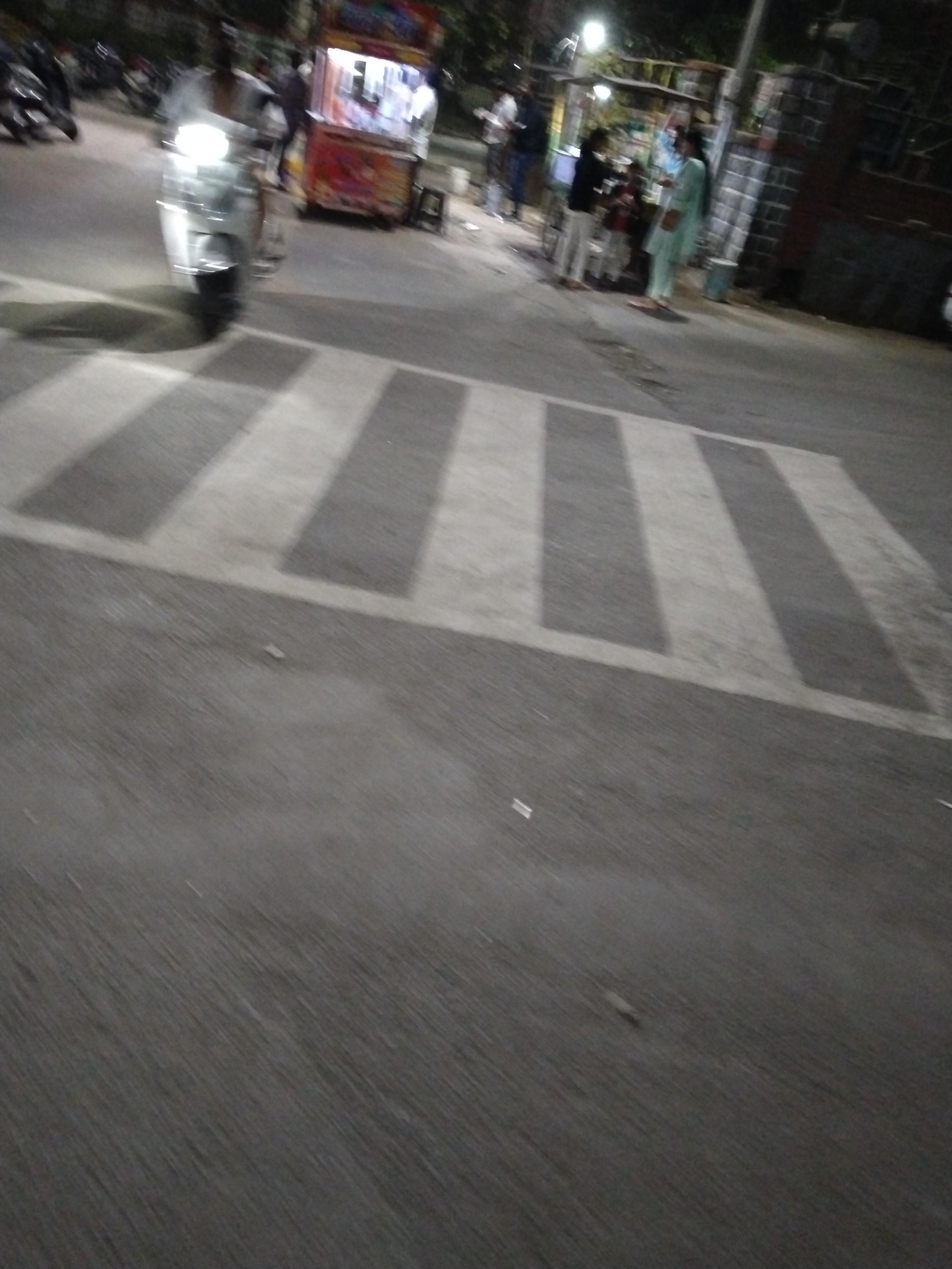crosswalk: (4, 271, 952, 751)
